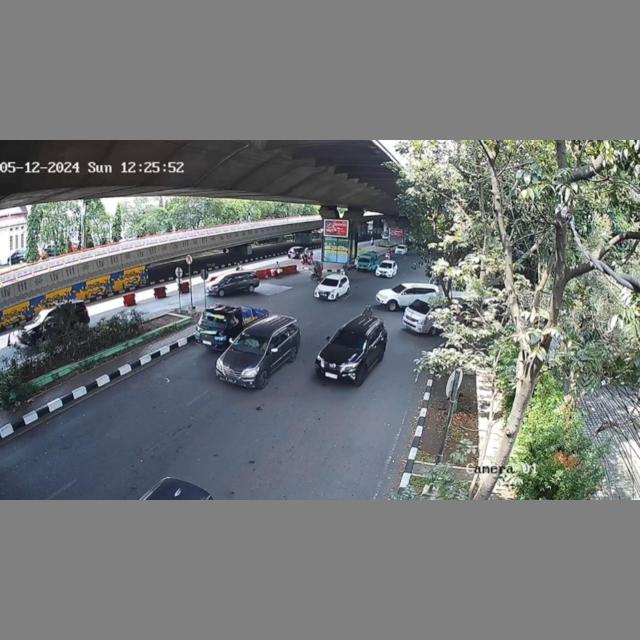windshield: (329, 327, 369, 350), (233, 332, 270, 356)
